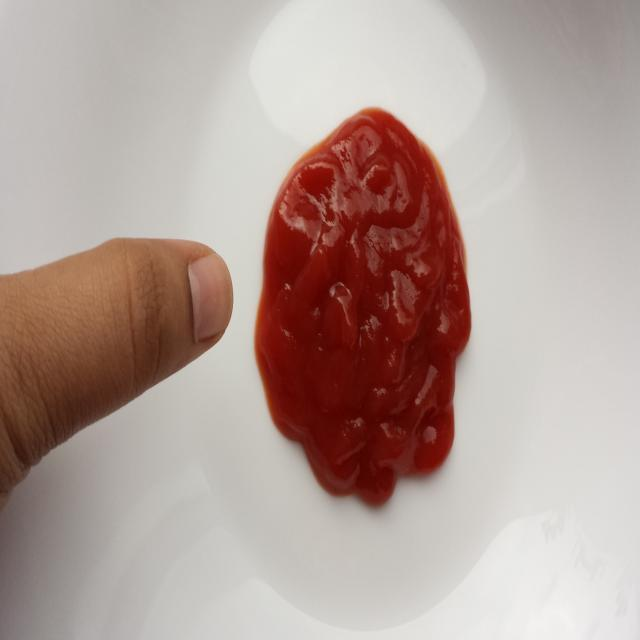Sauce: (262, 73, 478, 529)
